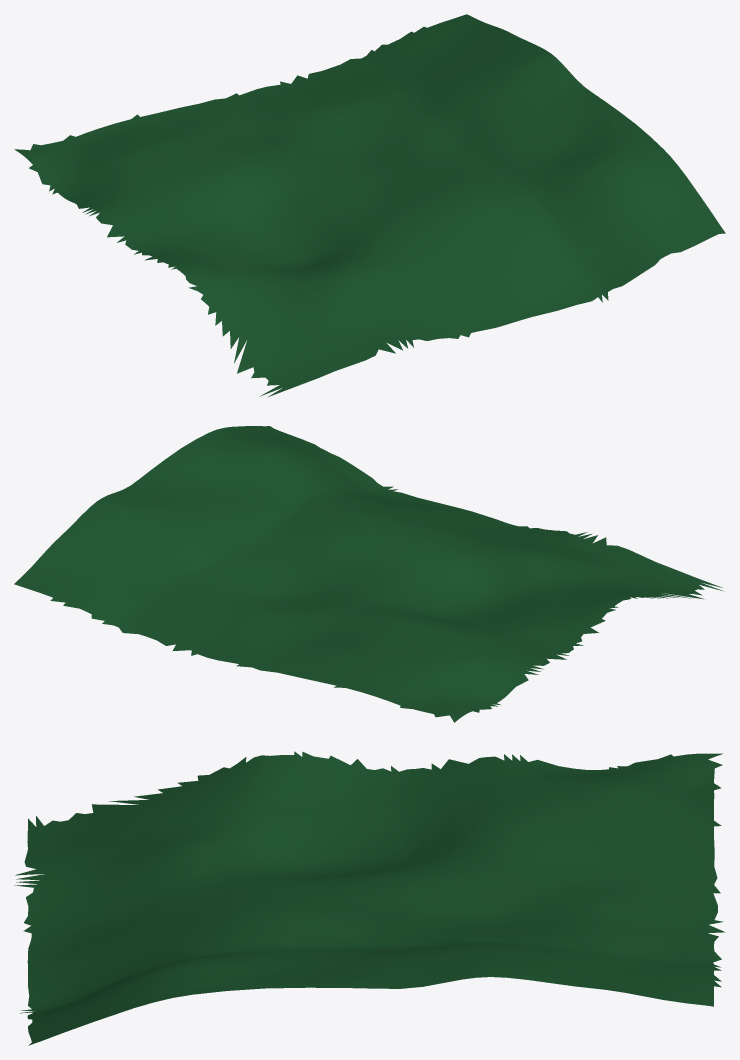
Rendered from payo_land_x3_ym1_lod1.glb.
The picture shows the model from 3 angles, top to bottom: view 1: azimuth 30°, elevation 25°; view 2: azimuth 150°, elevation 25°; view 3: azimuth 270°, elevation 25°; orthographic projection. The views are drawn at different scales.
Visible parts, largest first — view 1: payo_land_x3_ym1; view 2: payo_land_x3_ym1; view 3: payo_land_x3_ym1.
Boxes of the visible parts, x1,y1,x2,y2 form: payo_land_x3_ym1: [14, 14, 725, 397]; payo_land_x3_ym1: [14, 426, 723, 722]; payo_land_x3_ym1: [14, 751, 725, 1045].
Size of the model in its own units: 264 by 56.68 by 265.
